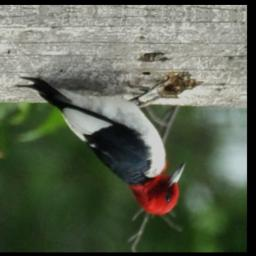Woodpecker: (13, 77, 189, 216)
